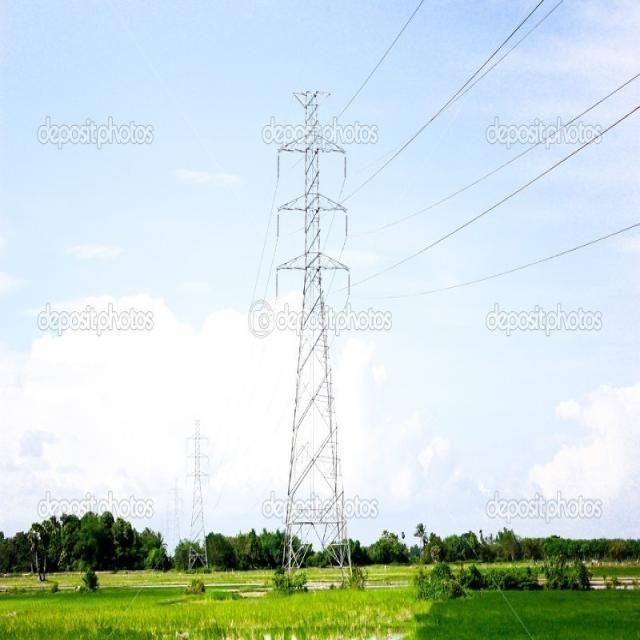non-critical vegetation: (256, 73, 373, 584)
